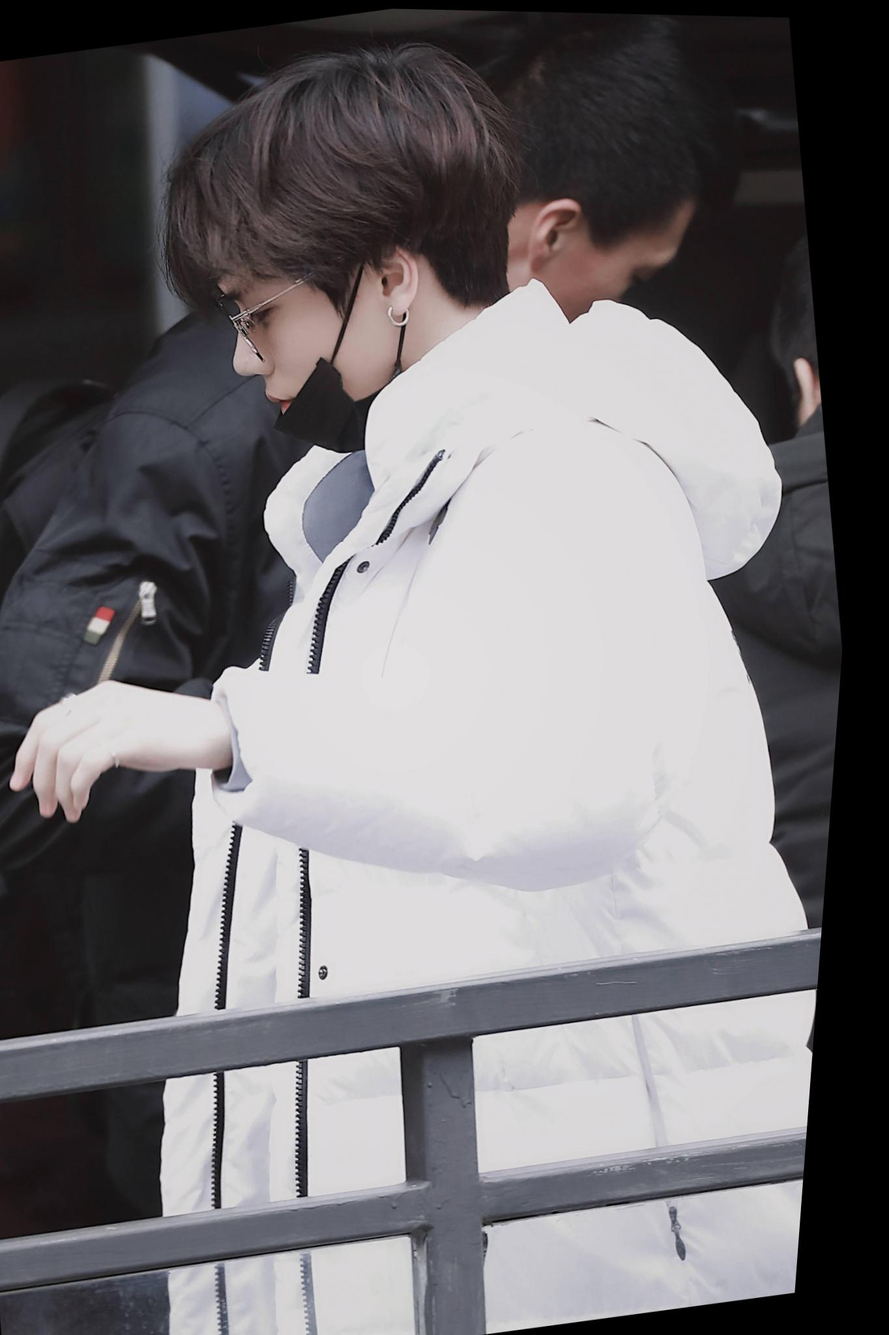WRONG: (201, 220, 379, 462)
